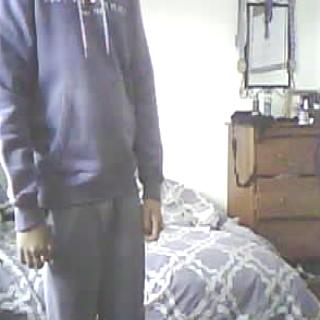Blue Hoodie: (0, 0, 165, 195)
Blue Sweatpants: (38, 195, 144, 320)
